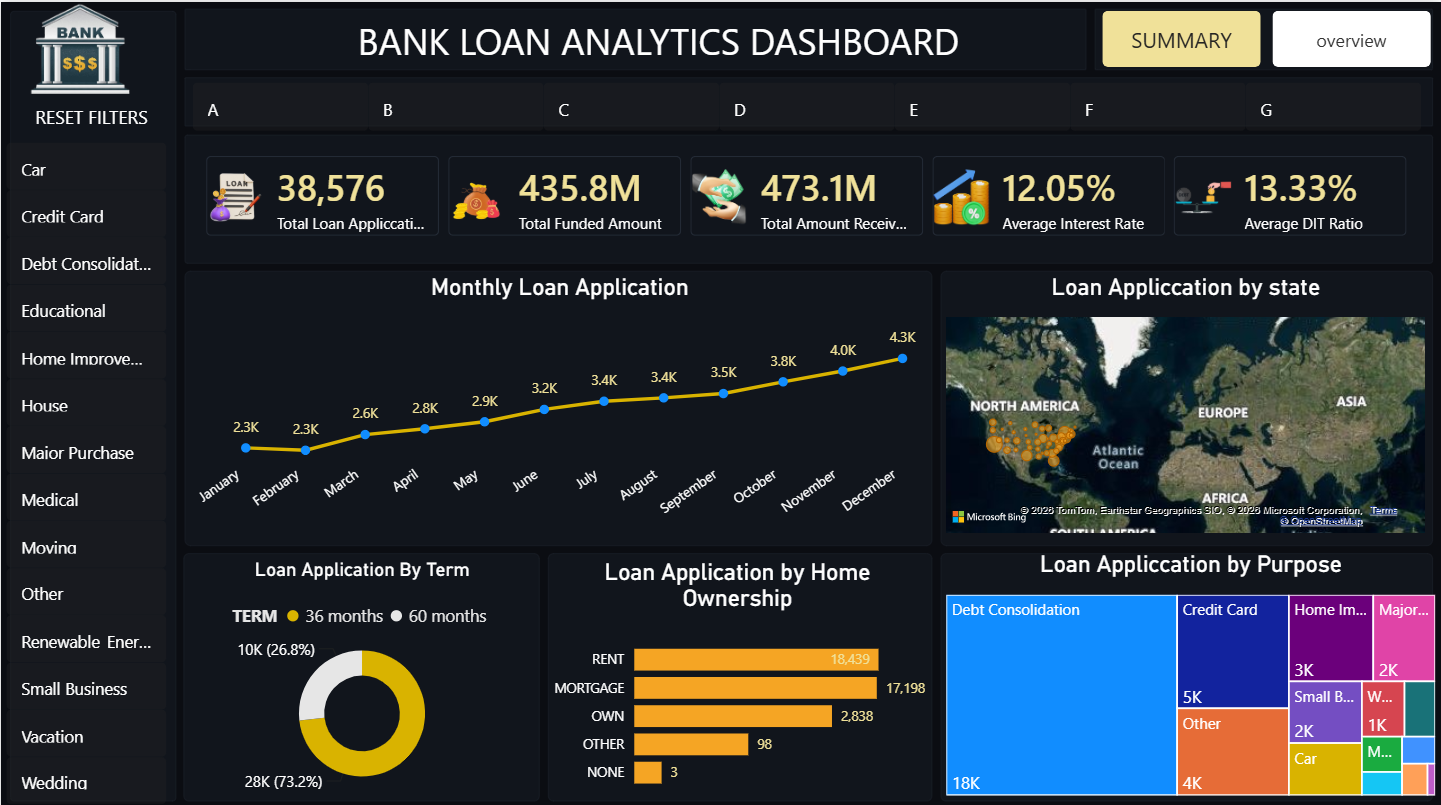

The dashboard page shown, as its layout file describes it:
{"tool":"powerbi","page":{"name":"overview","canvas":[1280,720],"ordinal":1},"visuals":[{"type":"cardVisual","fields":{"Data":["financial_loan.Total Loan Appliccation","financial_loan.Total Funded Amount","financial_loan.Total Amount Received","financial_loan.Average Interest Rate","financial_loan.Average DIT Rate"]},"box":[165.6,120,1105.6,105.6],"z":0},{"type":"image","box":[8.9,0,123.3,83.3],"z":1000},{"type":"advancedSlicerVisual","fields":{"Values":["financial_loan.PURPOSE"]},"box":[0,120,152.2,600],"z":2000},{"type":"advancedSlicerVisual","fields":{"Values":["financial_loan.GRADE"]},"box":[165.6,66.7,1105.6,53.3],"z":3000},{"type":"actionButton","box":[8.9,83.3,143.3,36.7],"z":4000},{"type":"textbox","box":[173.3,8.1,822.1,58.1],"z":5000},{"type":"pageNavigator","box":[978.9,7.8,292.2,50],"z":6000},{"type":"lineChart","title":"Monthly Loan Application","fields":{"Category":["financial_loan.ISSUE_DATE.Variation.Date Hierarchy.Month"],"Y":["financial_loan.Total Loan Appliccation"]},"box":[165.6,241.1,662.2,235.6],"z":7000},{"type":"donutChart","title":"Loan Application By Term","fields":{"Category":["financial_loan.TERM"],"Y":["financial_loan.Total Loan Appliccation"]},"box":[161.1,494.4,320,215.6],"z":8000},{"type":"clusteredBarChart","title":"Loan Application by Home Ownership","fields":{"Category":["financial_loan.HOME_OWNERSHIP"],"Y":["financial_loan.Total Loan Appliccation"]},"box":[481.1,494.4,347,216],"z":9000},{"type":"treemap","title":"Loan Appliccation by Purpose","fields":{"Group":["financial_loan.PURPOSE"],"Values":["financial_loan.Total Loan Appliccation"]},"box":[835.6,487.8,444.4,222.2],"z":10000},{"type":"map","title":"Loan Appliccation by state","fields":{"Category":["financial_loan.ADDRESS_STATE"],"Size":["financial_loan.Total Loan Appliccation"]},"box":[835.6,241.1,435.5,235.9],"z":10001}]}

Visuals, with their boxes in screenshot pixels (x1, y1, x2, y2), scaled from the page's 1280x720 canvas onto the 1441x805 screenshot:
cardVisual - financial_loan.Total Loan Appliccation x financial_loan.Total Funded Amount: {"x1": 186, "y1": 134, "x2": 1431, "y2": 252}
image: {"x1": 10, "y1": 0, "x2": 149, "y2": 93}
advancedSlicerVisual - financial_loan.PURPOSE: {"x1": 0, "y1": 134, "x2": 171, "y2": 804}
advancedSlicerVisual - financial_loan.GRADE: {"x1": 186, "y1": 75, "x2": 1431, "y2": 134}
actionButton: {"x1": 10, "y1": 93, "x2": 171, "y2": 134}
textbox: {"x1": 195, "y1": 9, "x2": 1121, "y2": 74}
pageNavigator: {"x1": 1102, "y1": 9, "x2": 1431, "y2": 65}
"Monthly Loan Application" lineChart: {"x1": 186, "y1": 270, "x2": 932, "y2": 533}
"Loan Application By Term" donutChart: {"x1": 181, "y1": 553, "x2": 542, "y2": 794}
"Loan Application by Home Ownership" clusteredBarChart: {"x1": 542, "y1": 553, "x2": 932, "y2": 794}
"Loan Appliccation by Purpose" treemap: {"x1": 941, "y1": 545, "x2": 1440, "y2": 794}
"Loan Appliccation by state" map: {"x1": 941, "y1": 270, "x2": 1431, "y2": 533}
